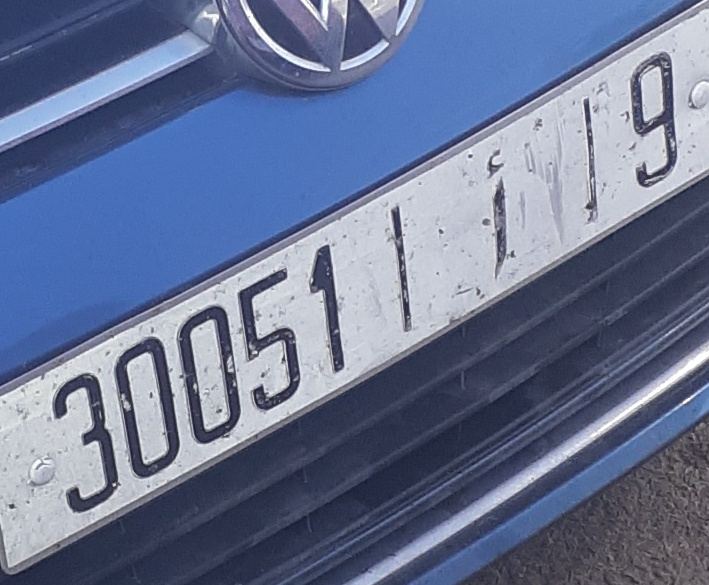0: (112, 335, 183, 478), (175, 302, 243, 447)
1: (306, 244, 352, 374)
3: (50, 370, 121, 514)
5: (236, 267, 304, 412)
9: (625, 50, 682, 189)
a: (482, 147, 515, 280)
